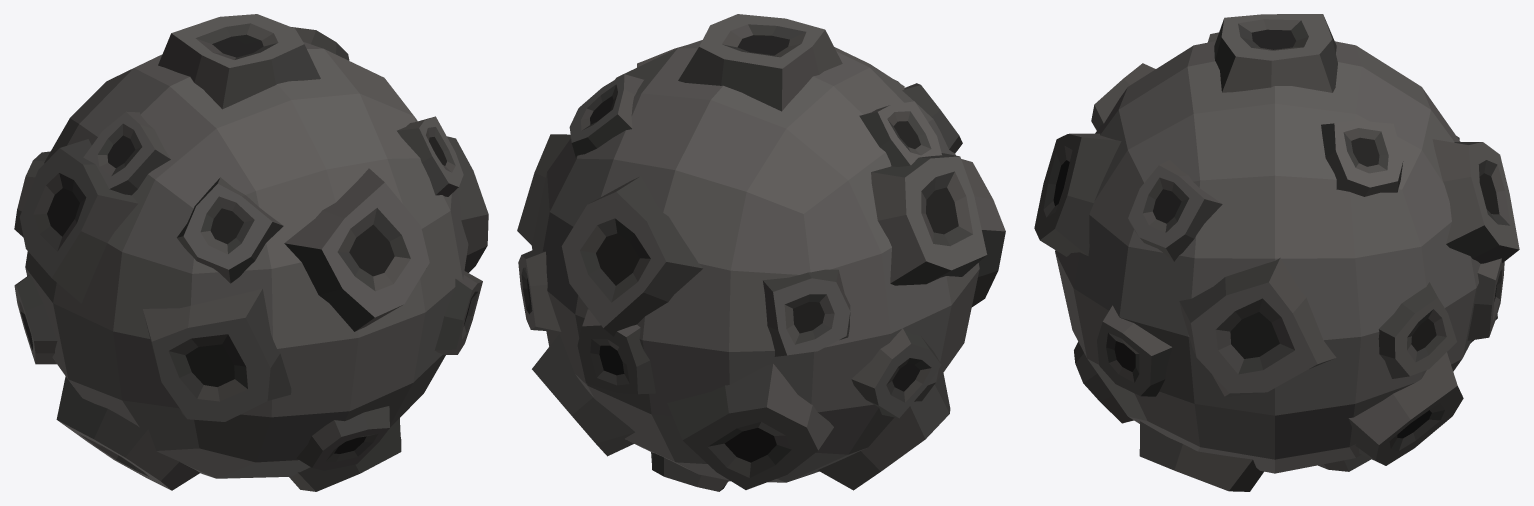
Rendered from SM_Env_Meteor_01.fbx.
The picture shows the model from 3 angles, left to right: view 1: azimuth 30°, elevation 25°; view 2: azimuth 150°, elevation 25°; view 3: azimuth 270°, elevation 25°; orthographic projection. The views are drawn at different scales.
Parts seen in each view (by area): view 1: SM_Env_Meteor_01; view 2: SM_Env_Meteor_01; view 3: SM_Env_Meteor_01.
Boxes of the visible parts, x1,y1,x2,y2 form: SM_Env_Meteor_01: [14, 14, 488, 491]; SM_Env_Meteor_01: [517, 14, 1005, 491]; SM_Env_Meteor_01: [1034, 14, 1519, 491].
Size of the model in its own units: 22.06 by 21.47 by 22.13.
